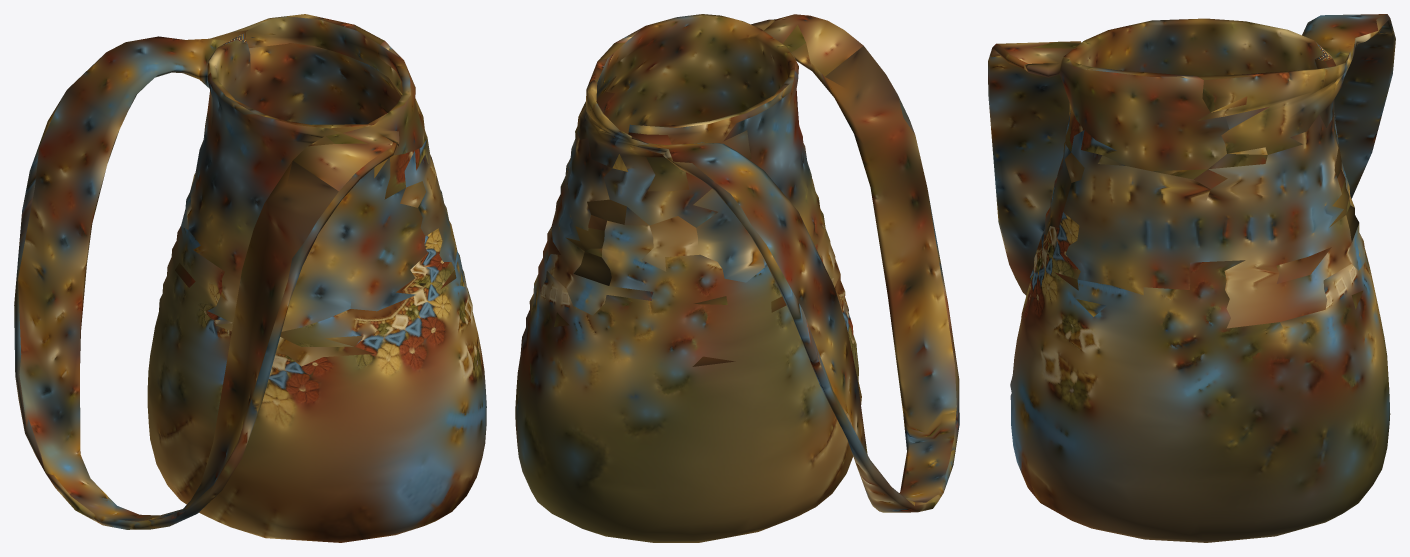
The model's file is Bolso.fbx.
The picture shows the model from 3 angles, left to right: view 1: azimuth 30°, elevation 25°; view 2: azimuth 150°, elevation 25°; view 3: azimuth 270°, elevation 25°; orthographic projection. The views are drawn at different scales.
Visible parts, largest first — view 1: BOLSO; view 2: BOLSO; view 3: BOLSO.
Boxes of the visible parts, x1=… form: BOLSO: x1=14, y1=14, x2=486, y2=542; BOLSO: x1=515, y1=14, x2=959, y2=542; BOLSO: x1=988, y1=14, x2=1395, y2=542.
Bounding box in the file's own units: 42.42 × 43.64 × 36.74.
